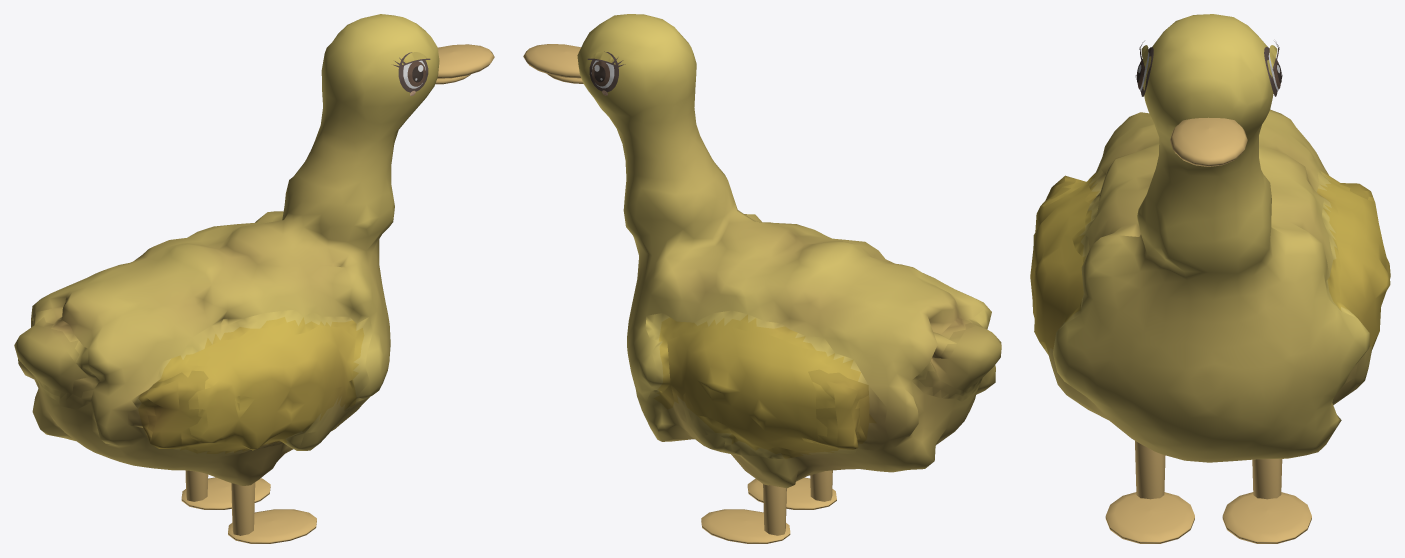
File: golden_goose.glb
The picture shows the model from 3 angles, left to right: view 1: azimuth 30°, elevation 25°; view 2: azimuth 150°, elevation 25°; view 3: azimuth 270°, elevation 25°; orthographic projection. The views are drawn at different scales.
Parts seen in each view (by area): view 1: golden_goose; view 2: golden_goose; view 3: golden_goose.
Boxes of the visible parts, box(x1,y1,x2,y2) form: golden_goose: box(14, 14, 494, 543); golden_goose: box(523, 14, 1001, 543); golden_goose: box(1030, 14, 1390, 543).
Size of the model in its own units: 0.7062 by 0.6639 by 0.3722.
